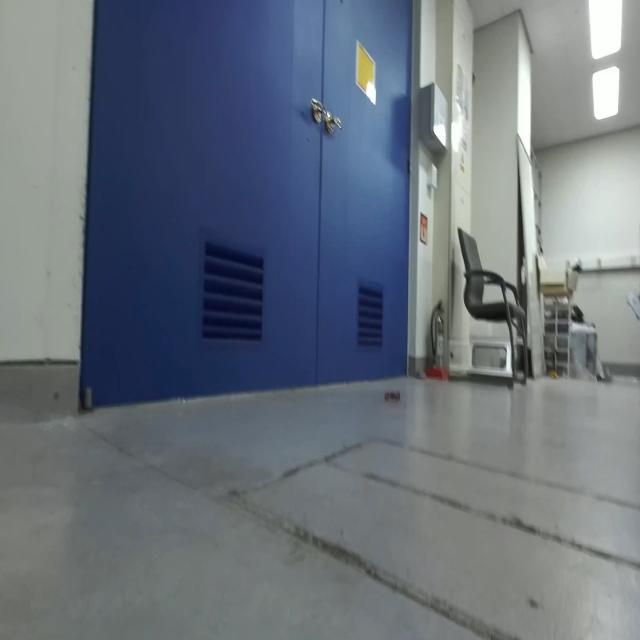crazyflie: (380, 384, 402, 408)
